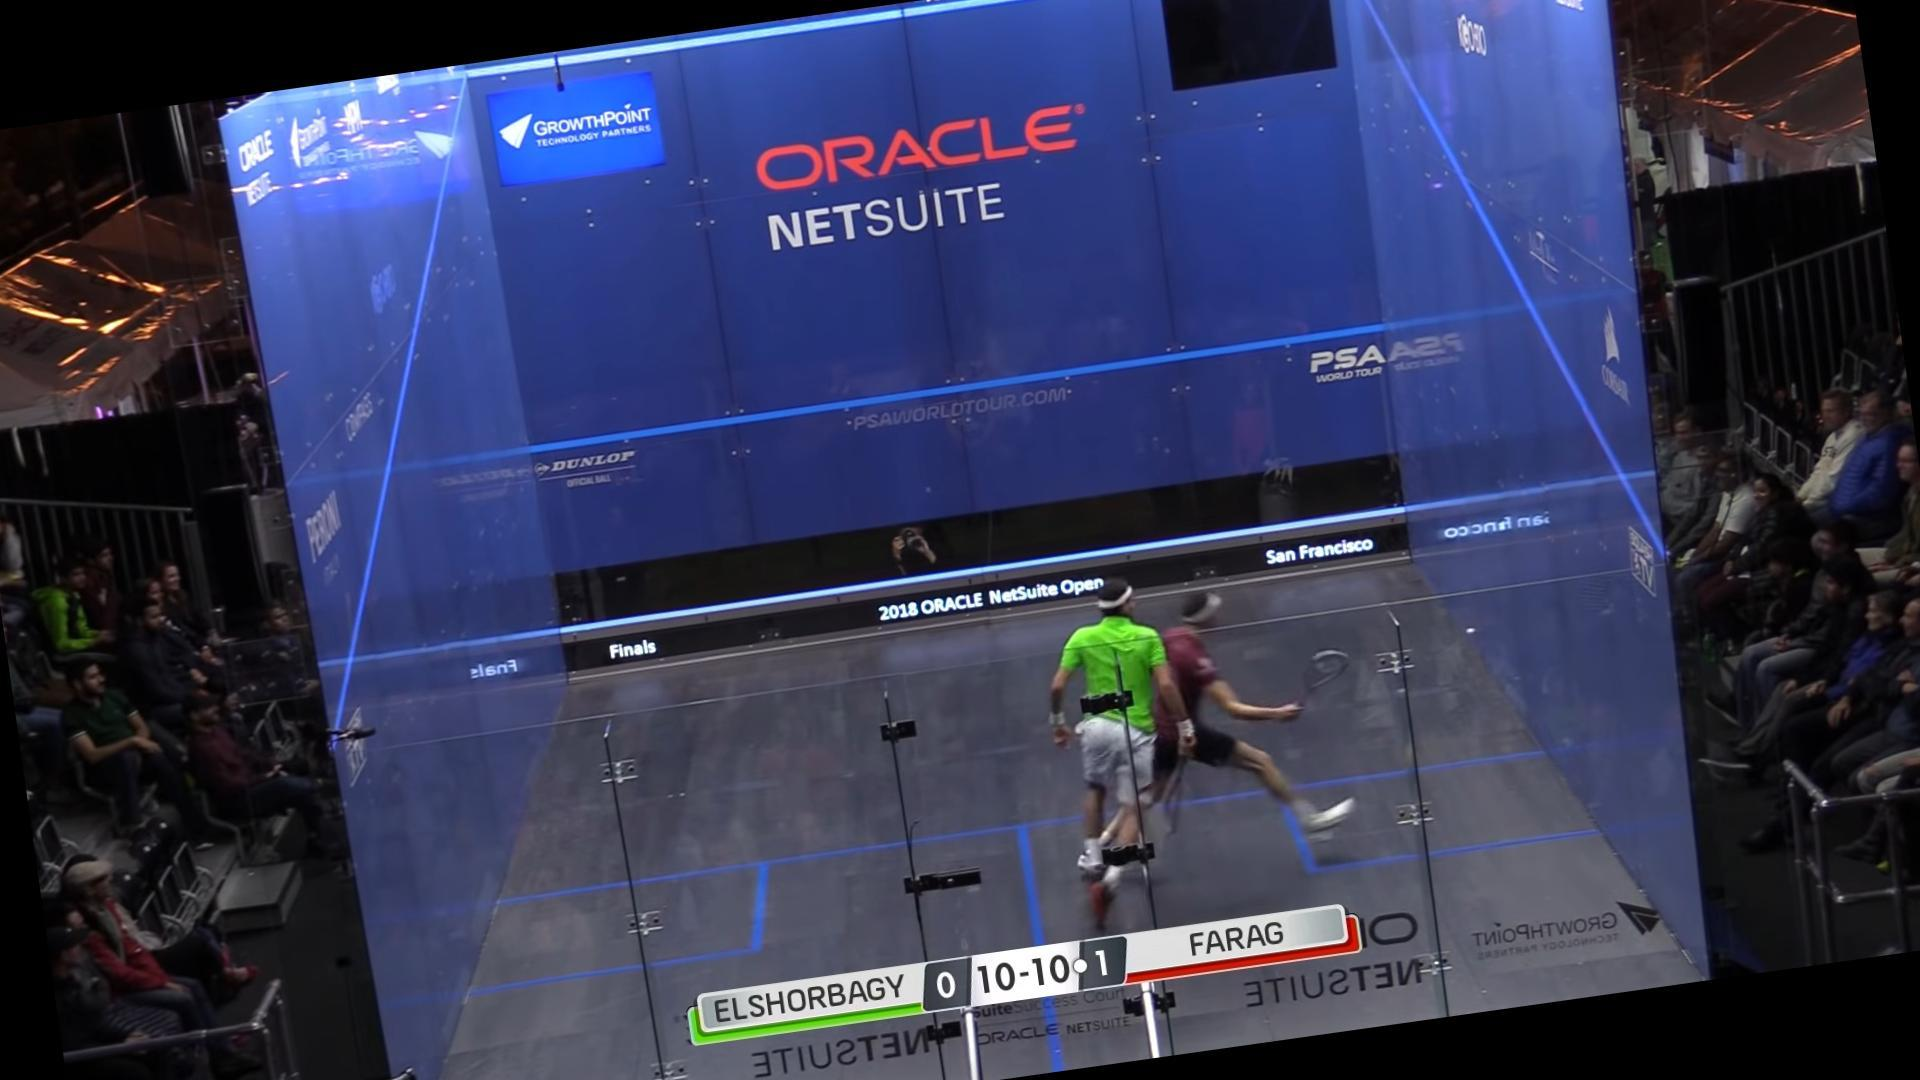Squash-Ball: (1452, 611, 1484, 644)
